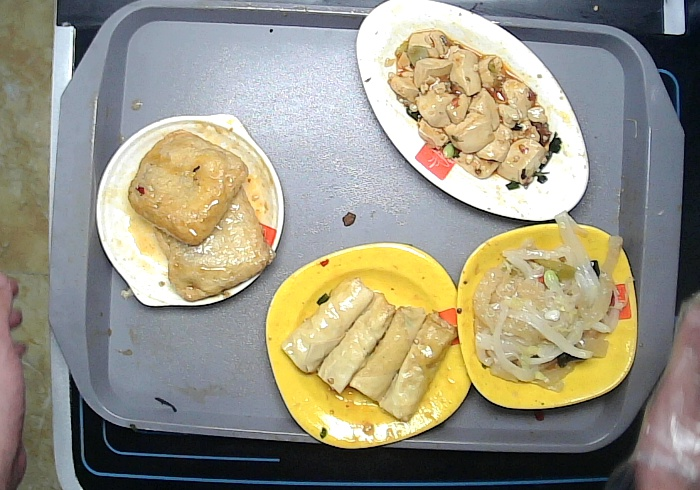SHKJ-Bao_Yu_Pan: (94, 111, 286, 310)
SHKJ-Huang_Se_Cai_Die: (455, 221, 637, 408)
SHKJ-Huang_Se_Si_Fang_Cai_Die: (264, 242, 471, 449)
SHKJ-Yu_Pan: (353, 1, 591, 222)
